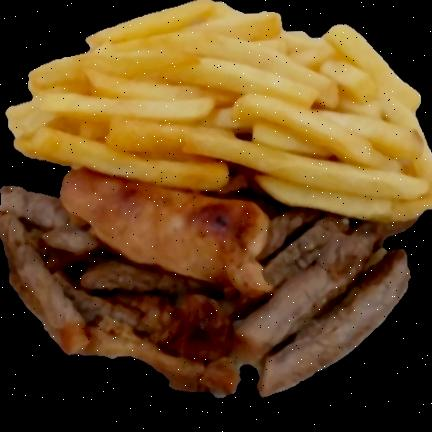chicken: (60, 169, 271, 297)
meat: (0, 187, 408, 395)
potato: (6, 0, 431, 219)
